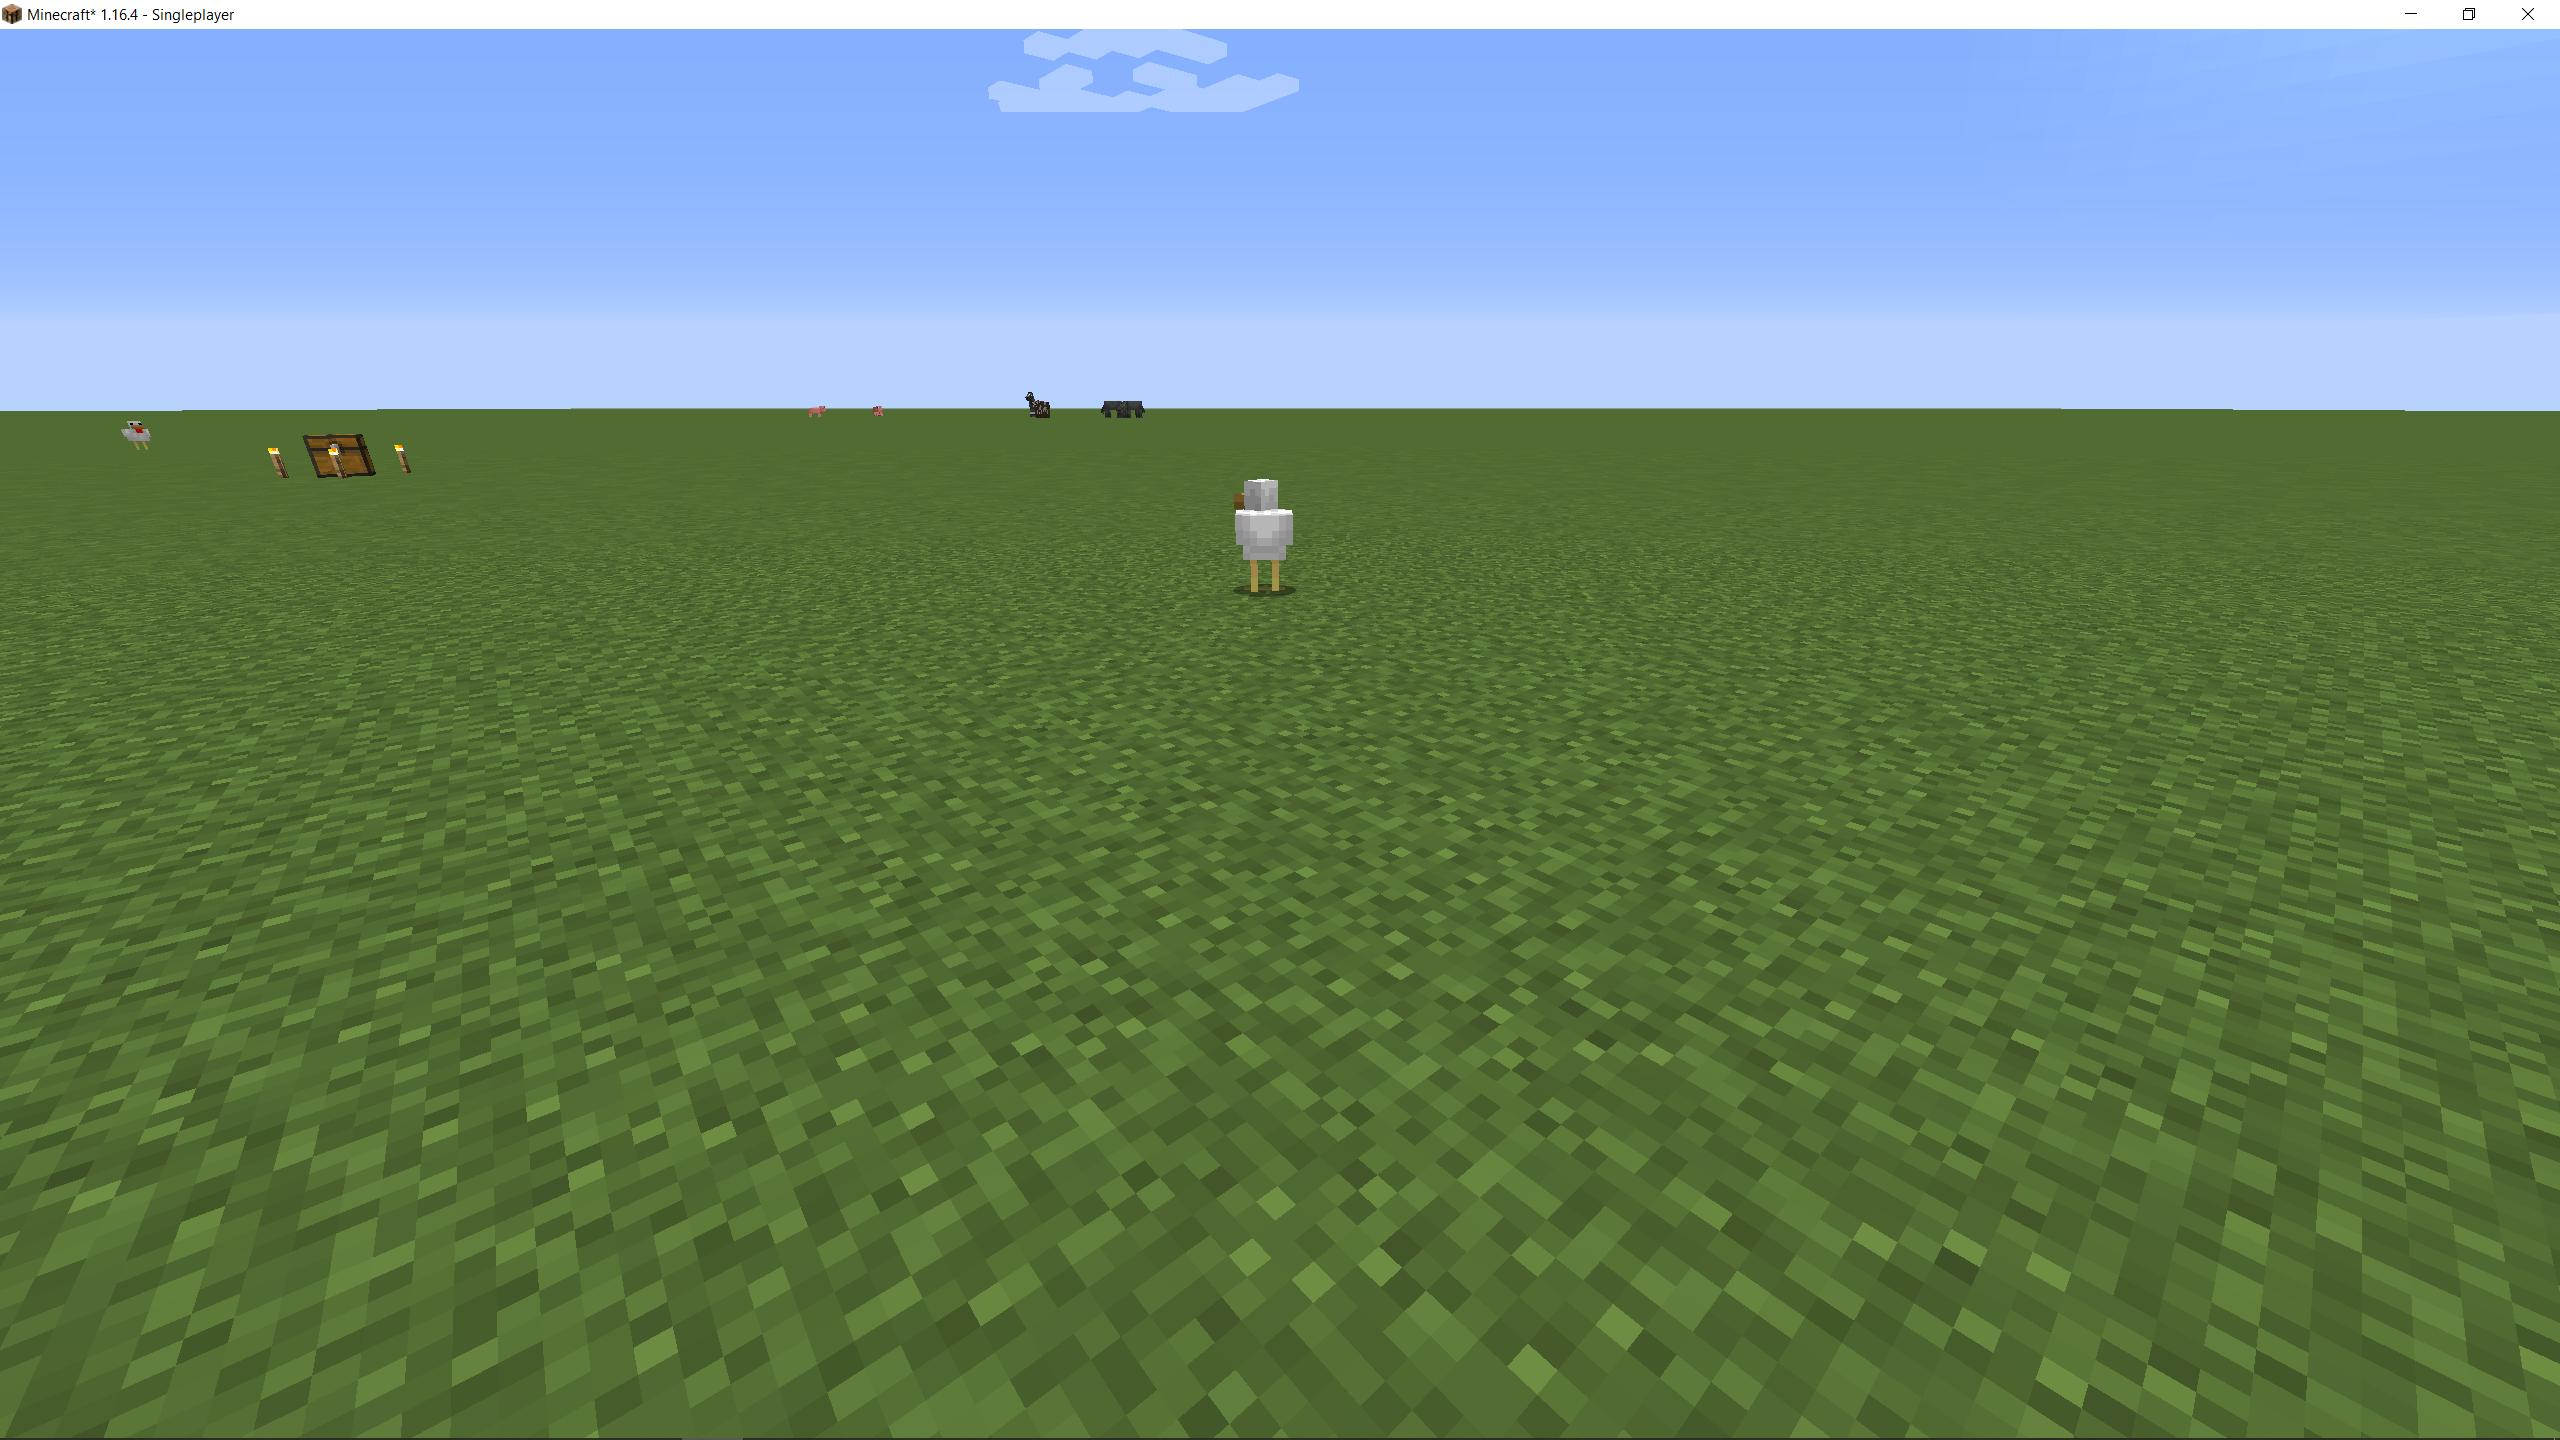chicken: (1220, 476, 1301, 605)
